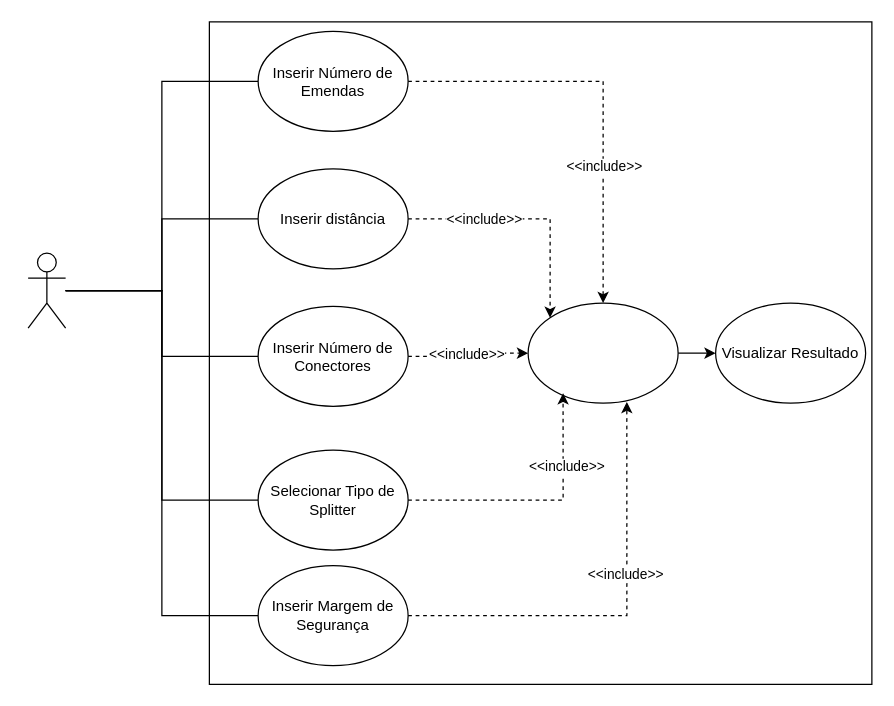
Image size: 894x706. Some labels were removed from this diagram. Each missing label, with the centre of its shape:
"Calcular Parâmetro Faltante" goes at [602,352].
"Usuário" goes at [46,290].
